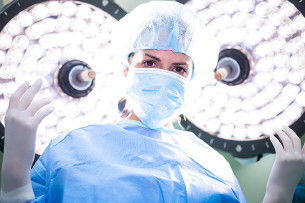face_mask: (129, 45, 191, 129)
